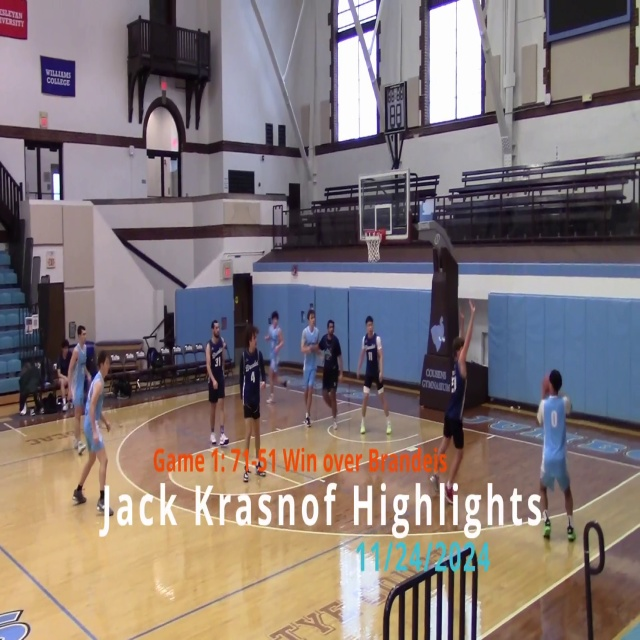Basketball: (561, 395, 572, 414)
